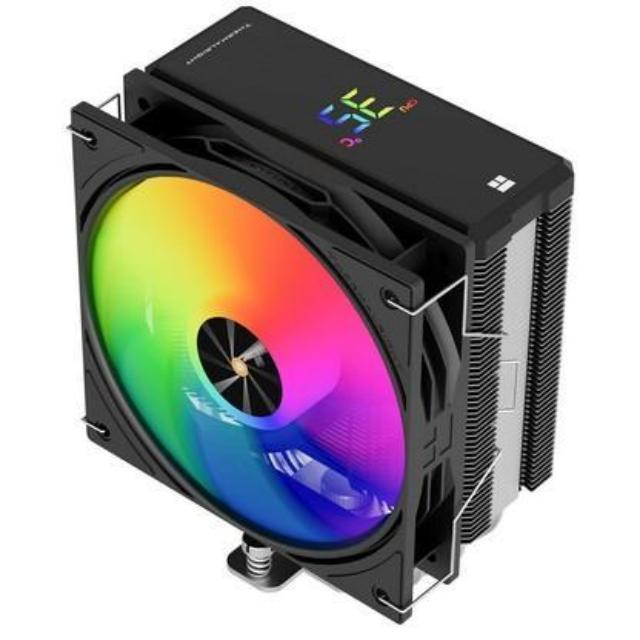CPU_Fan: (67, 6, 564, 626)
